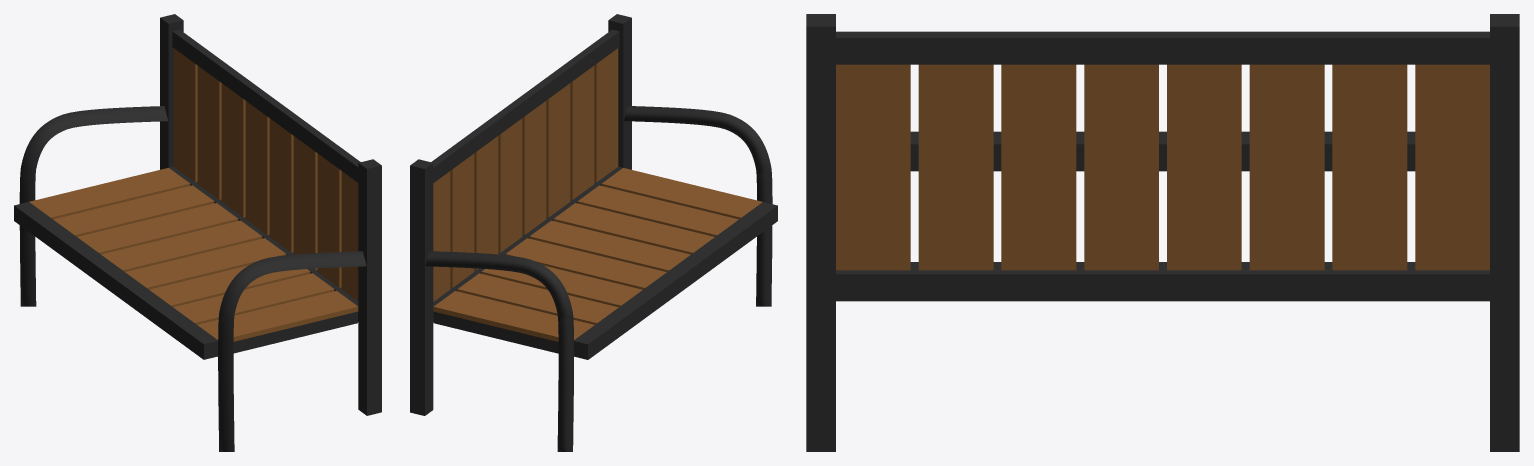
Rendered from bench.glb.
3 renders of one model, left to right at view 1: azimuth 30°, elevation 25°; view 2: azimuth 150°, elevation 25°; view 3: azimuth 270°, elevation 25°, orthographic. The views are drawn at different scales.
Visible parts, largest first — view 1: Cube (×22), Spline 3D (×2); view 2: Cube (×22), Spline 3D (×2); view 3: Cube (×13).
Part boxes in pixels (left/top/right/bottom): Cube (×22): left=14, top=14, right=381, bottom=415; Spline 3D (×2): left=19, top=106, right=366, bottom=451; Cube (×22): left=410, top=14, right=777, bottom=415; Spline 3D (×2): left=425, top=106, right=772, bottom=451; Cube (×13): left=806, top=14, right=1519, bottom=451.
Size of the model in its own units: 0.74 by 1.05 by 1.56.
